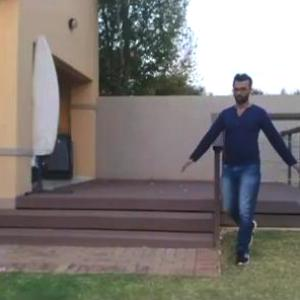land: (179, 73, 298, 269)
